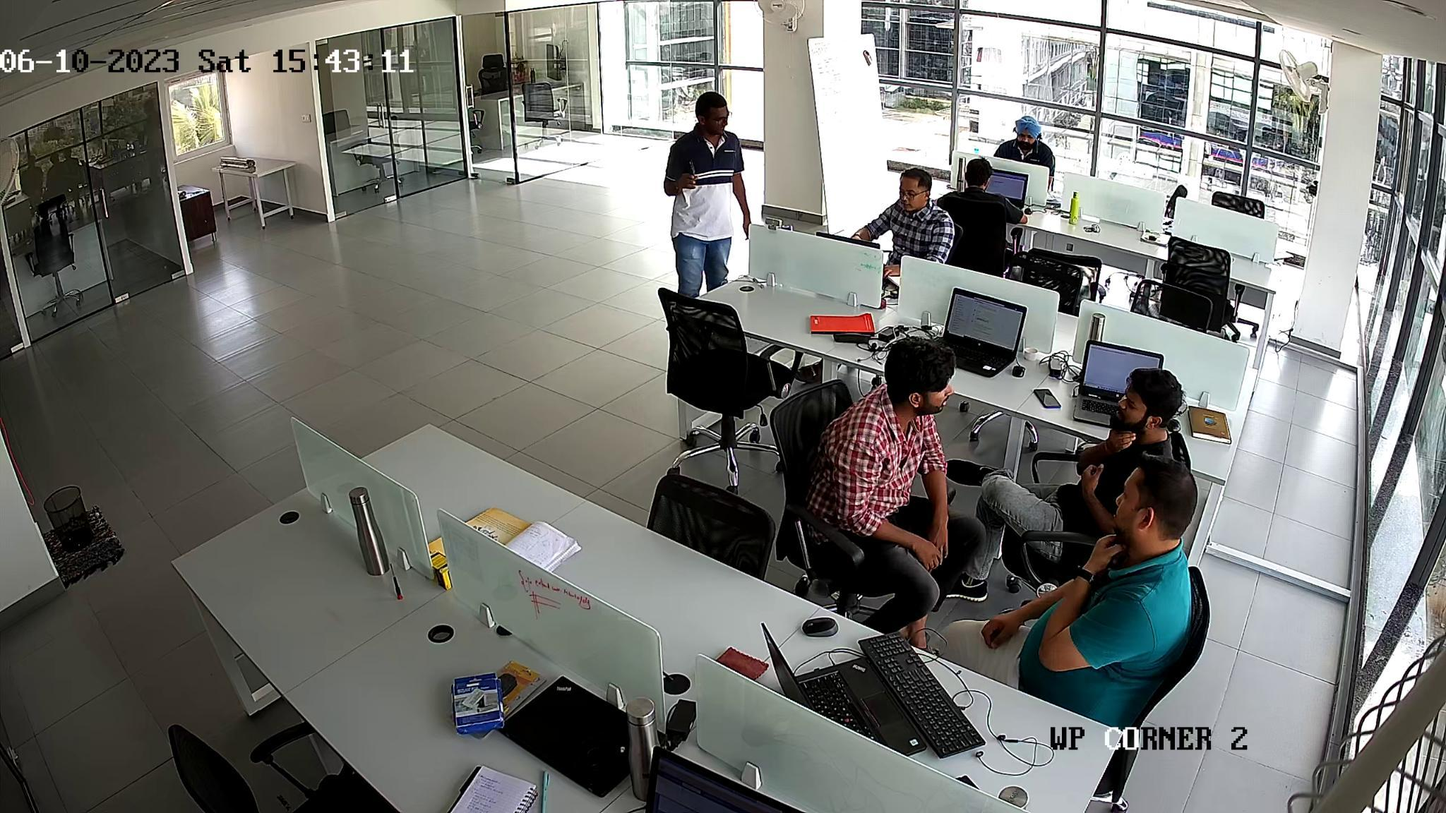gun: (685, 158, 698, 189)
